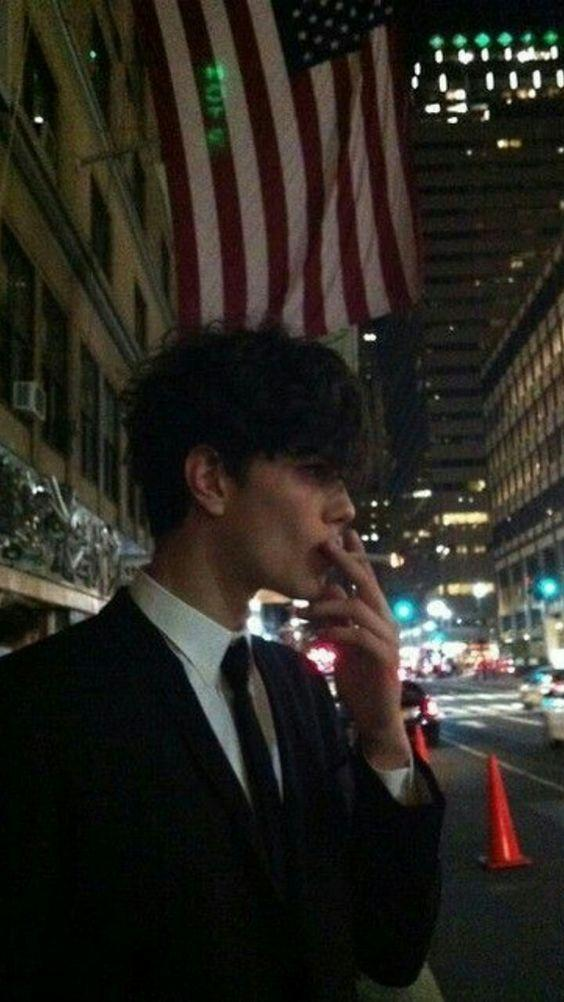cigarette: (346, 552, 406, 568)
